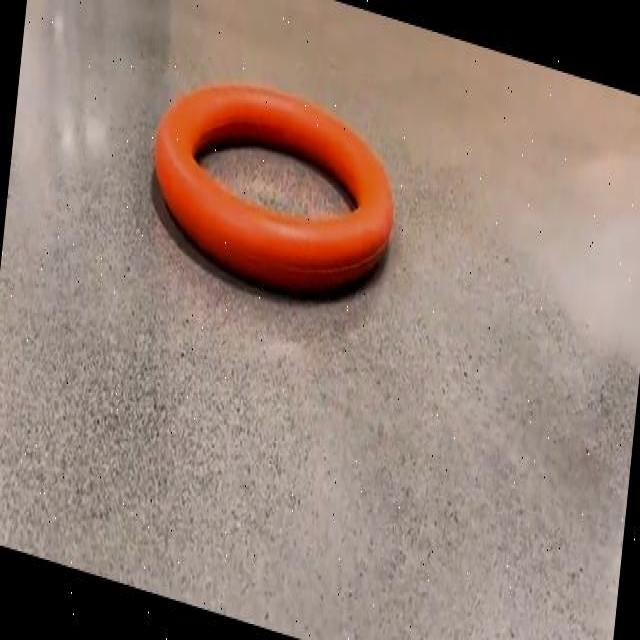note: (155, 84, 394, 290)
